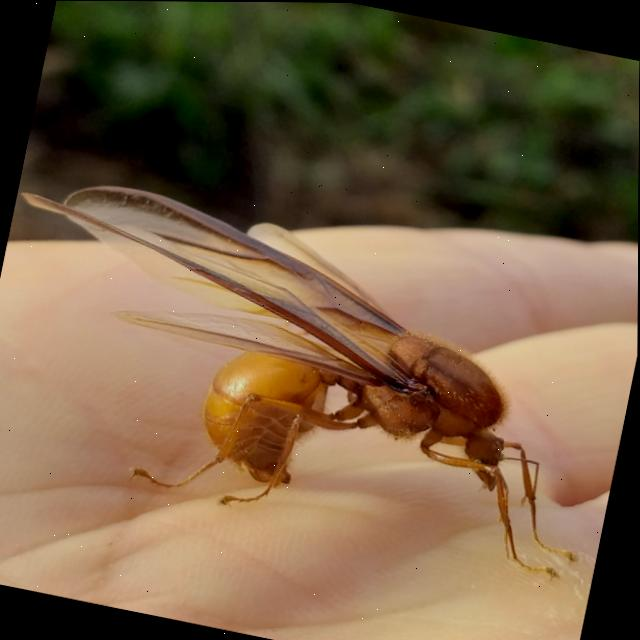Alive-Male-Alate: (0, 165, 634, 586)
